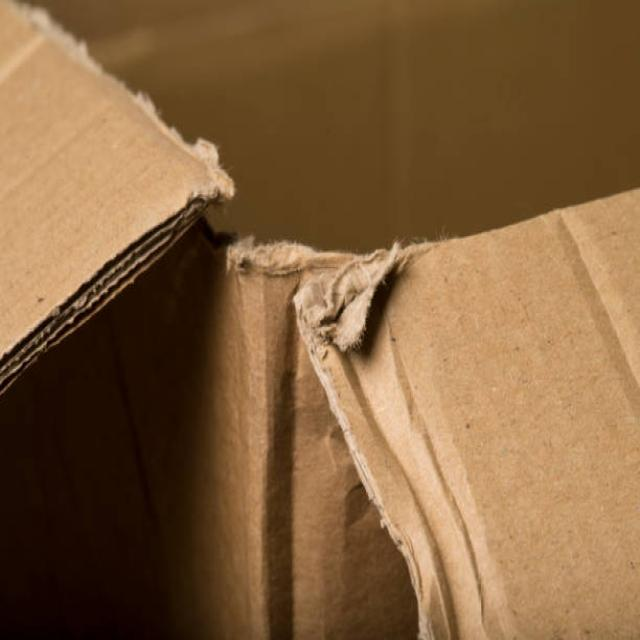electronic: (290, 173, 639, 639), (0, 0, 235, 422)
